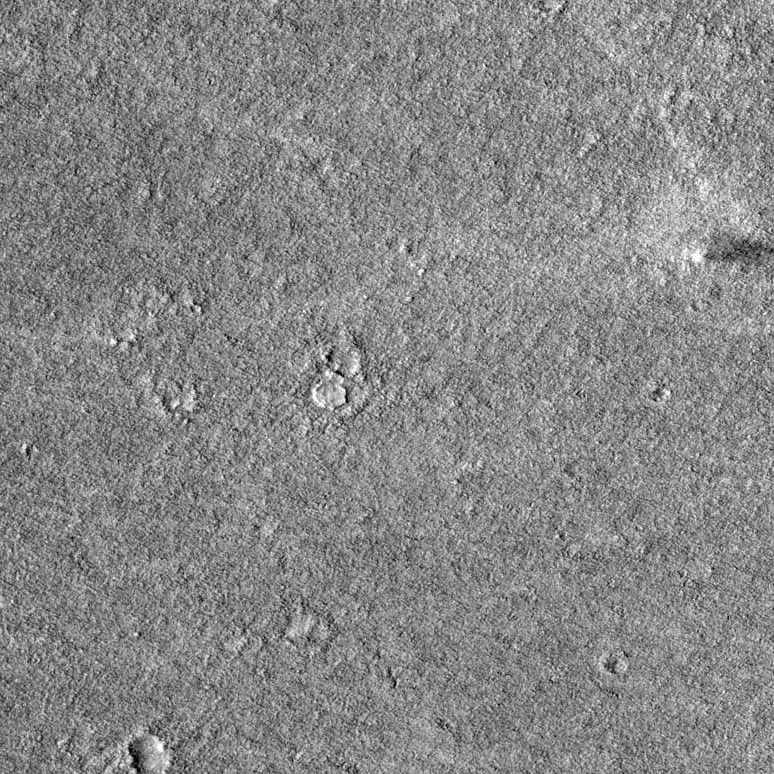dust_devil: (687, 237, 774, 275)
